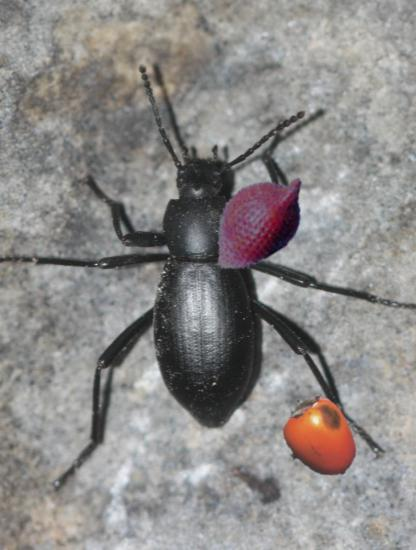Kaki: (275, 395, 362, 482)
Salak: (200, 162, 318, 280)
